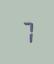seven: (19, 19, 32, 44)
